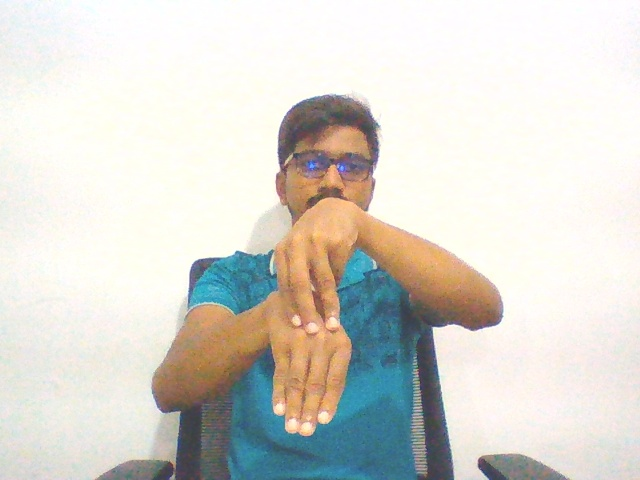papaya: (261, 188, 368, 442)
